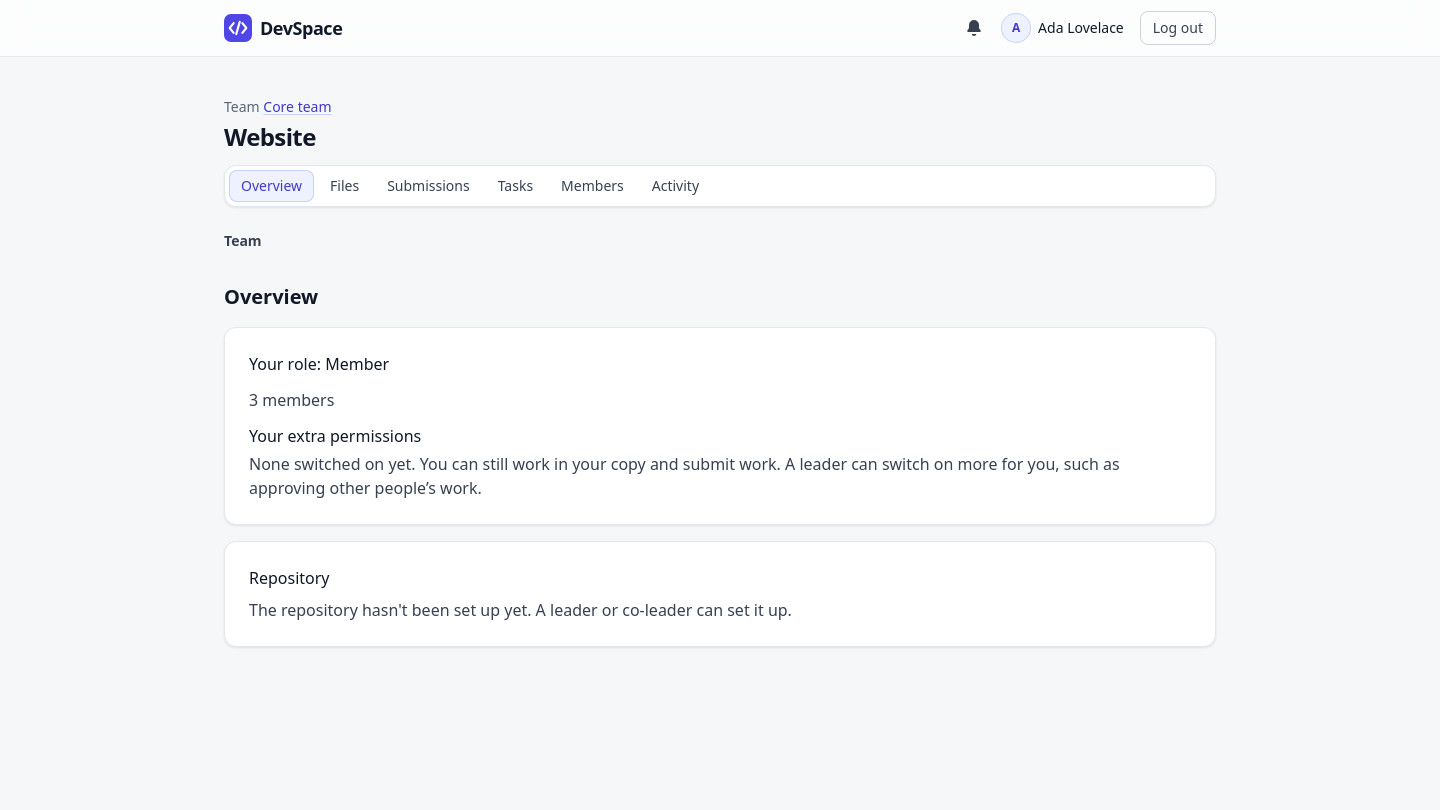
Scenario: the notification bell › says so when there are none
expect the heading "Website" is shown: met, box [224, 120, 316, 153]
Click the button named "Notifications": coordinates (974, 28) [958, 12, 990, 44]
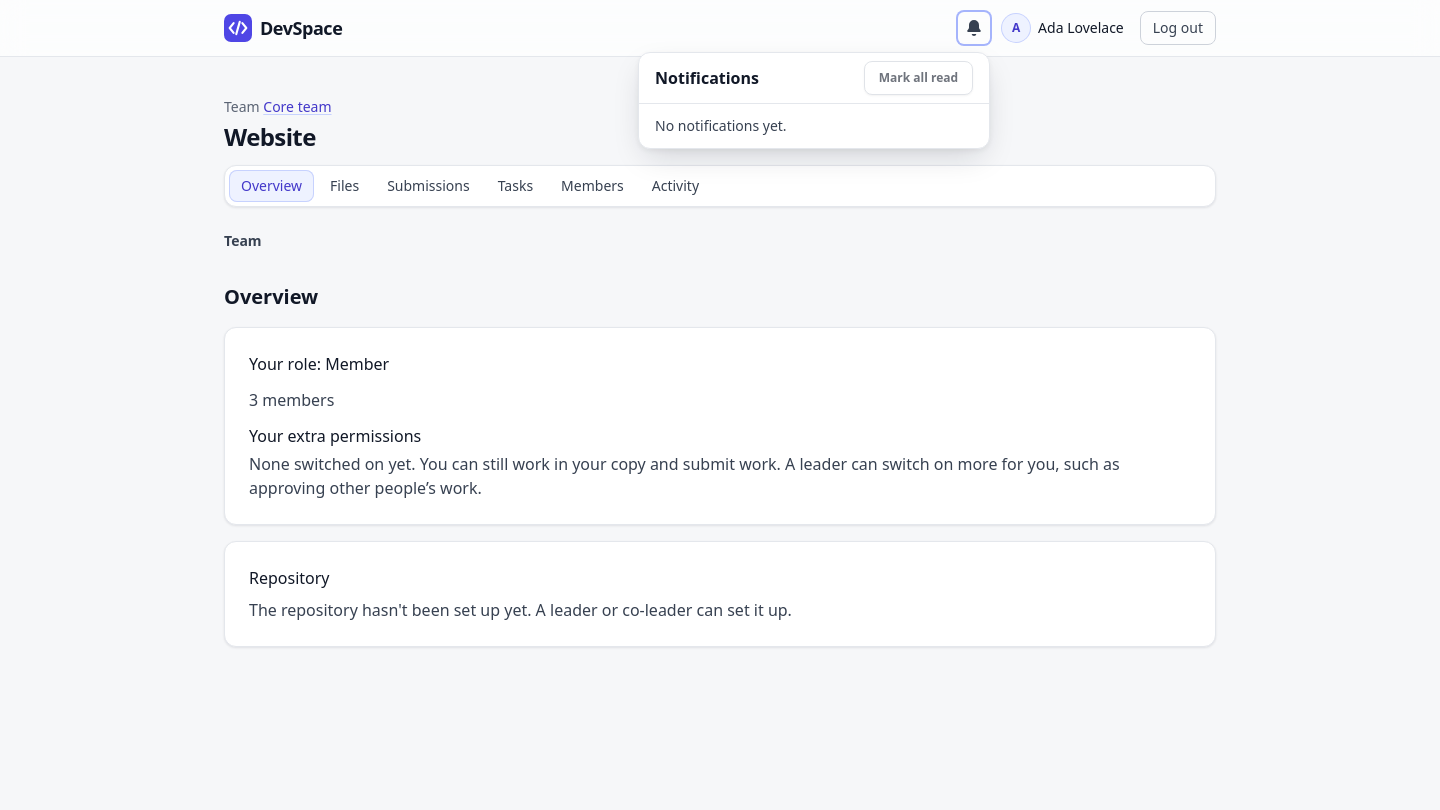
expect the text "No notifications yet." is shown: met, box [655, 116, 787, 135]
expect the button "Mark all read" is disabled: met, box [864, 61, 973, 95]
